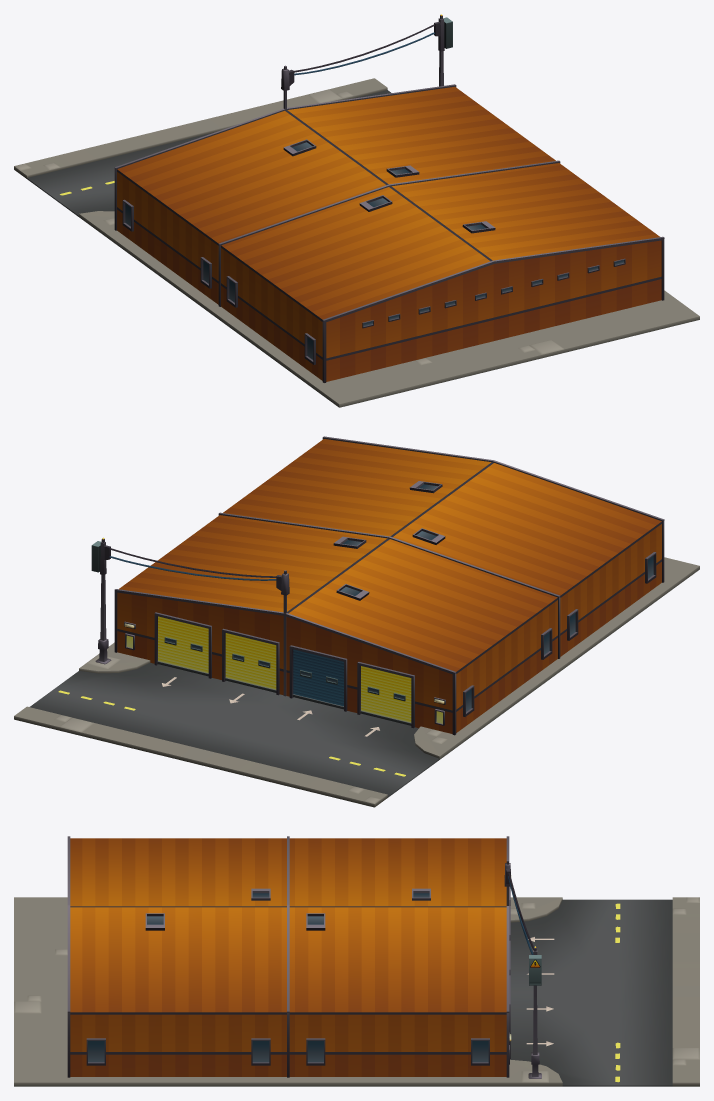
Rendered from Warehouse_3B.fbx.
3 renders of one model, top to bottom at view 1: azimuth 30°, elevation 25°; view 2: azimuth 150°, elevation 25°; view 3: azimuth 270°, elevation 25°, orthographic. The views are drawn at different scales.
Parts seen in each view (by area): view 1: Warehouse_3B, Warehouse_3B_Base; view 2: Warehouse_3B, Warehouse_3B_Base, Warehouse_3B_Door_M1, Warehouse_3B_Door_L, Warehouse_3B_Door_R, Warehouse_3B_Door_M2; view 3: Warehouse_3B, Warehouse_3B_Base.
Part boxes in pixels (<box>): Warehouse_3B: <box>114,14,664,382</box>; Warehouse_3B_Base: <box>14,78,699,407</box>; Warehouse_3B: <box>91,436,664,735</box>; Warehouse_3B_Base: <box>14,557,699,807</box>; Warehouse_3B_Door_M1: <box>225,633,276,692</box>; Warehouse_3B_Door_L: <box>157,616,208,676</box>; Warehouse_3B_Door_R: <box>360,666,411,725</box>; Warehouse_3B_Door_M2: <box>292,649,343,709</box>; Warehouse_3B: <box>67,836,541,1078</box>; Warehouse_3B_Base: <box>14,897,699,1086</box>.
Size of the model in its own units: 32 by 10.78 by 50.
